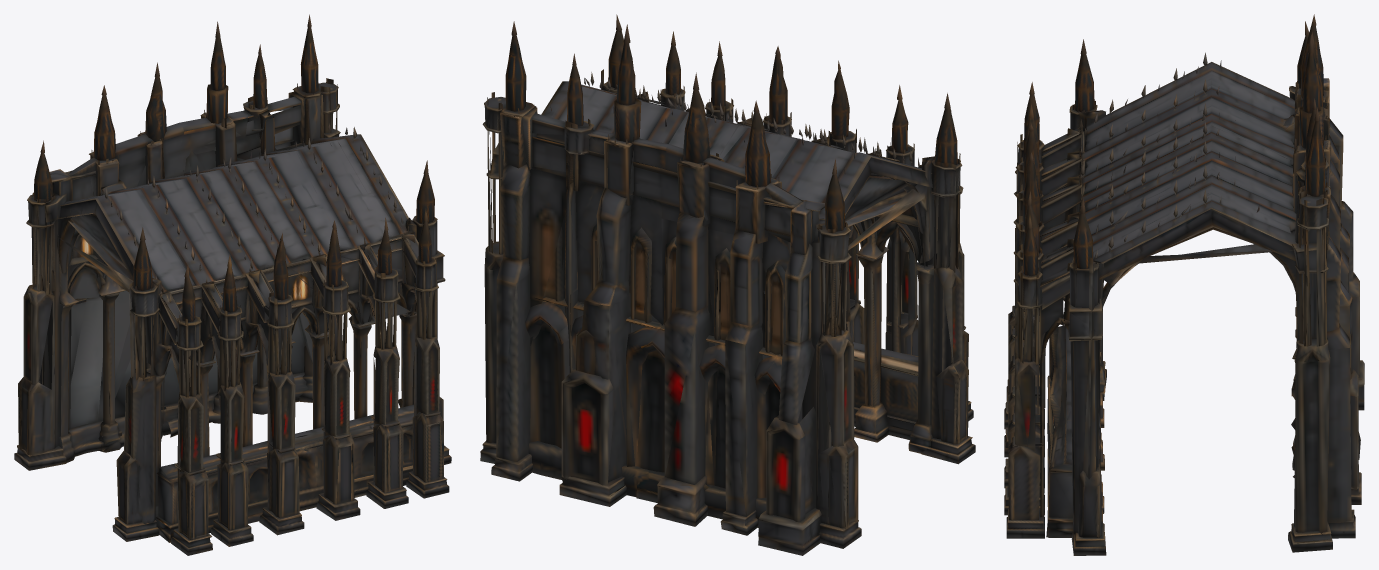
File: Meshy_AI_Cathedral_Nave_Hall_L_1031120439_texture.glb
3 views of the same model, side by side, from view 1: azimuth 30°, elevation 25°; view 2: azimuth 150°, elevation 25°; view 3: azimuth 270°, elevation 25° (orthographic). The views are drawn at different scales.
Visible parts, largest first — view 1: geometry_0; view 2: geometry_0; view 3: geometry_0.
Part boxes in pixels (x1,y1,x2,y2): geometry_0: (14, 14, 451, 555); geometry_0: (480, 14, 975, 555); geometry_0: (1004, 14, 1364, 555).
Size of the model in its own units: 0.8091 by 0.9487 by 0.6855.
1 material, 1 textured.
